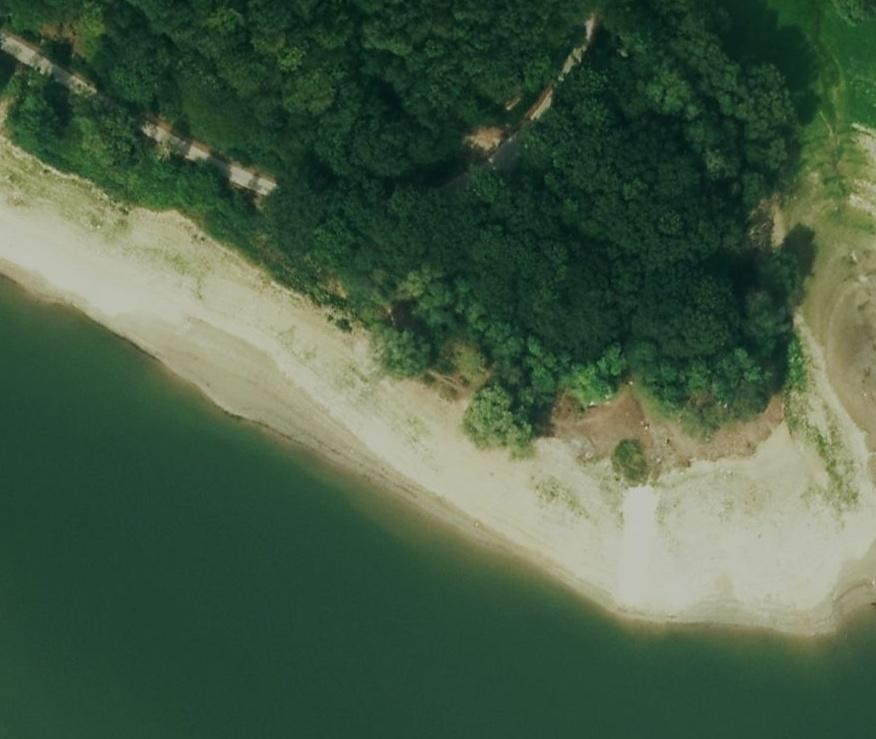forest: (0, 0, 811, 449)
lake: (0, 279, 876, 737)
